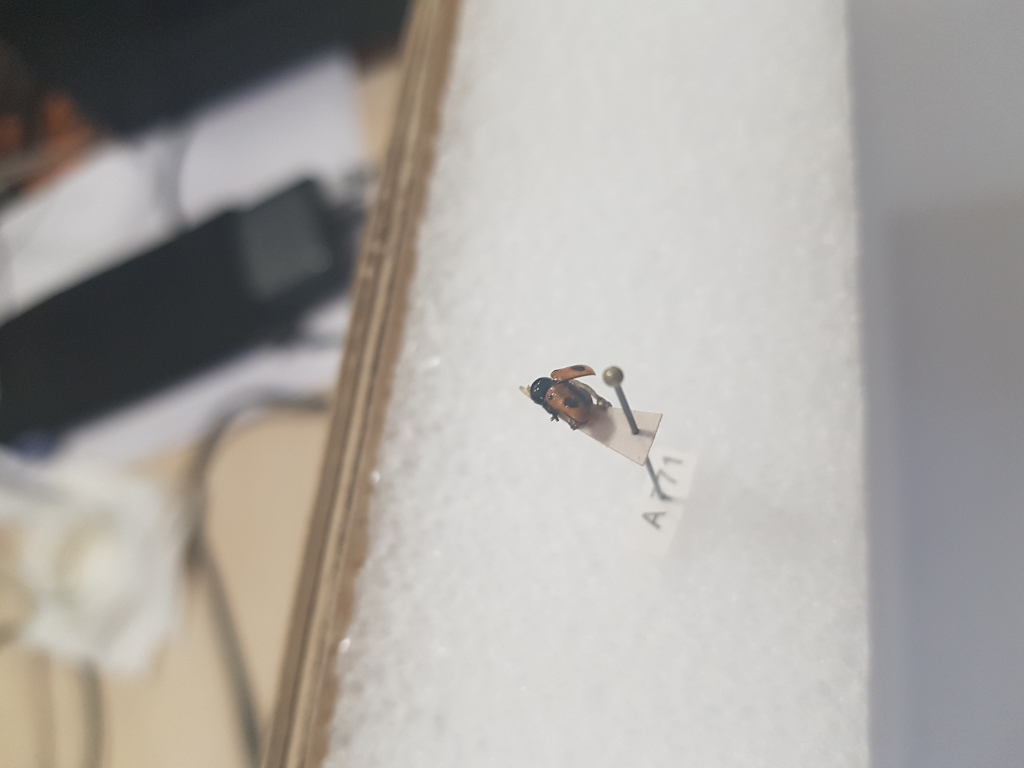Cryptocephalus_bipunctatus: (513, 361, 611, 452)
